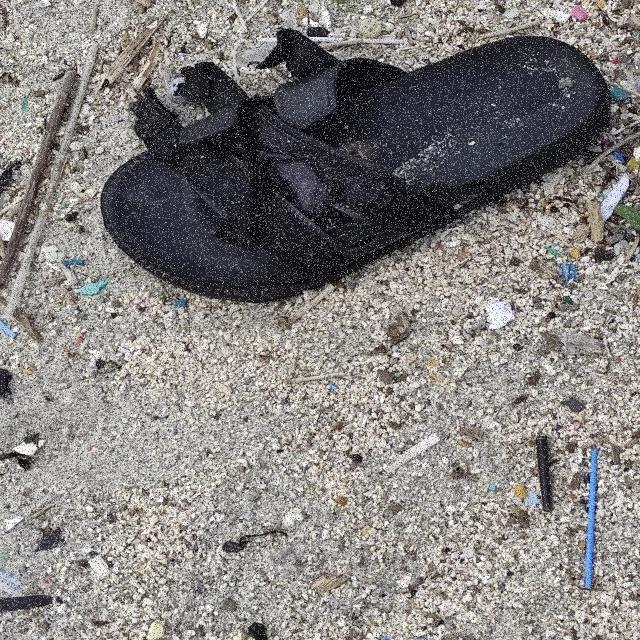plastic_waste: (585, 448, 601, 590)
rubber_waste: (99, 29, 613, 306)
